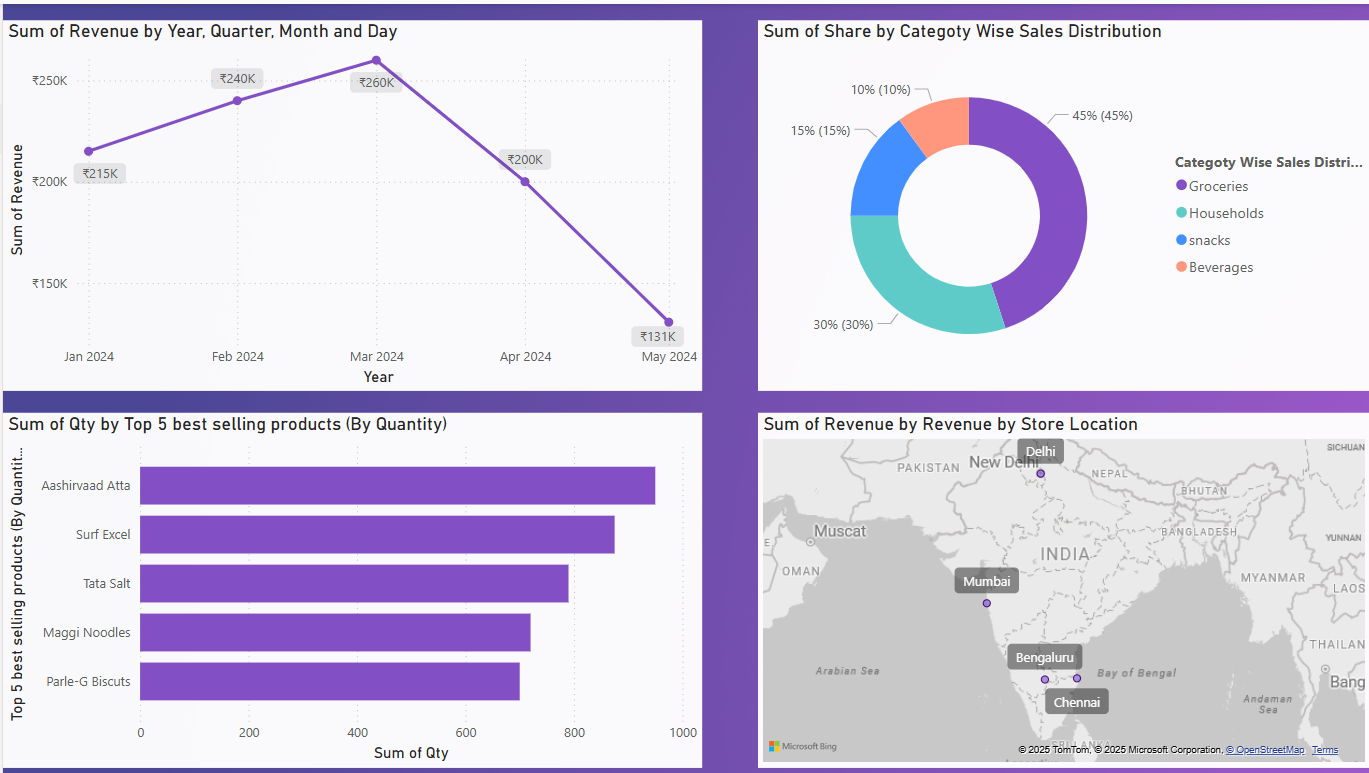

What the dashboard file says about the page in this screenshot:
{"tool":"powerbi","page":{"name":"Page 1","canvas":[1280,720],"ordinal":0},"visuals":[{"type":"lineChart","fields":{"Y":["Sum(Table 3 (Sheet1).Revenue)"],"Category":["Table 3 (Sheet1).Sales Trend Over-time (Monthly).Variation.Date Hierarchy.Year","Table 3 (Sheet1).Sales Trend Over-time (Monthly).Variation.Date Hierarchy.Quarter","Table 3 (Sheet1).Sales Trend Over-time (Monthly).Variation.Date Hierarchy.Month","Table 3 (Sheet1).Sales Trend Over-time (Monthly).Variation.Date Hierarchy.Day"]},"box":[0,14.7,650.5,344.8],"z":0},{"type":"barChart","fields":{"Y":["Sum(Top 5 best selling products (By Quantity) (Sheet1).Qty)"],"Category":["Top 5 best selling products (By Quantity) (Sheet1).Top 5 best selling products (By Quantity)"]},"box":[0,380.3,650.5,330.2],"z":1000},{"type":"map","fields":{"Category":["Revenue by Store Location (Sheet1).Revenue by Store Location"]},"box":[701.9,380.3,569.8,330.2],"z":3000},{"type":"donutChart","fields":{"Category":["Categoty Wise Sales Distribution (Sheet1).Categoty Wise Sales Distribution"],"Y":["Sum(Categoty Wise Sales Distribution (Sheet1).Share)"]},"box":[701.9,14.7,569.8,344.8],"z":4001}]}

Visuals, with their boxes in screenshot pixels (x1, y1, x2, y2), scaled from the page's 1280x720 canvas onto the 1369x773 screenshot:
lineChart - Sum(Table 3 (Sheet1).Revenue) x Table 3 (Sheet1).Sales Trend Over-time (Monthly).Variation.Date Hierarchy.Year: 0:16:696:386
barChart - Sum(Top 5 best selling products (By Quantity) (Sheet1).Qty) x Top 5 best selling products (By Quantity) (Sheet1).Top 5 best selling products (By Quantity): 0:408:696:763
map - Revenue by Store Location (Sheet1).Revenue by Store Location: 751:408:1360:763
donutChart - Categoty Wise Sales Distribution (Sheet1).Categoty Wise Sales Distribution x Sum(Categoty Wise Sales Distribution (Sheet1).Share): 751:16:1360:386
